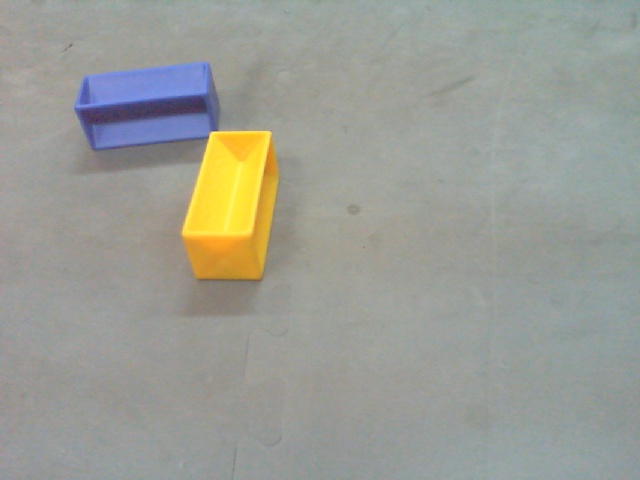BlueSample: (73, 61, 218, 149)
YellowSample: (179, 130, 280, 283)
